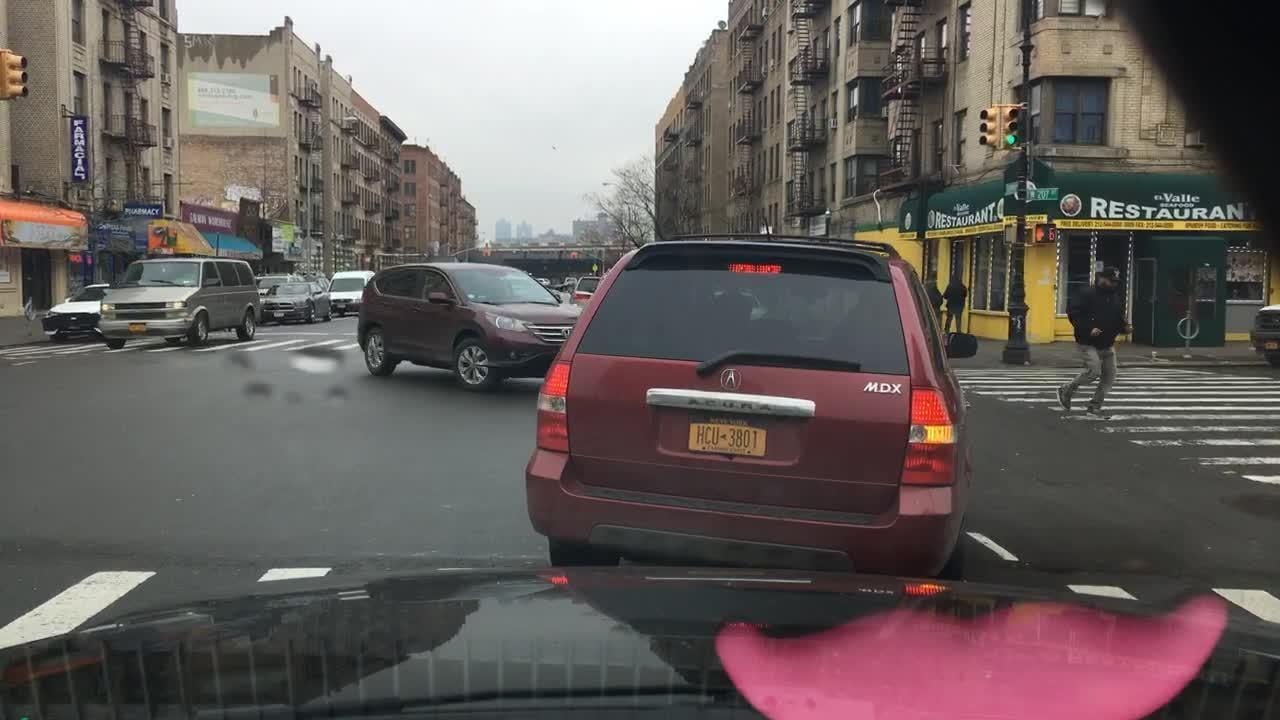Honda: (556, 324, 573, 344)
acura: (715, 356, 749, 395)
